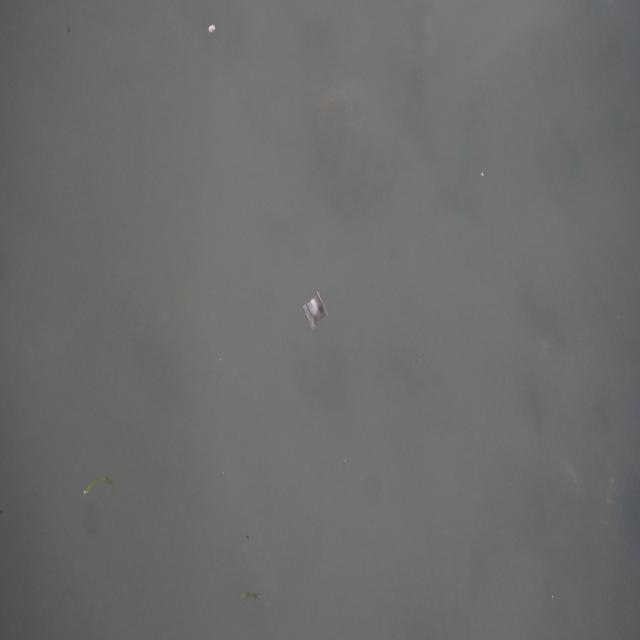Bungkus Makanan: (303, 286, 330, 336)
